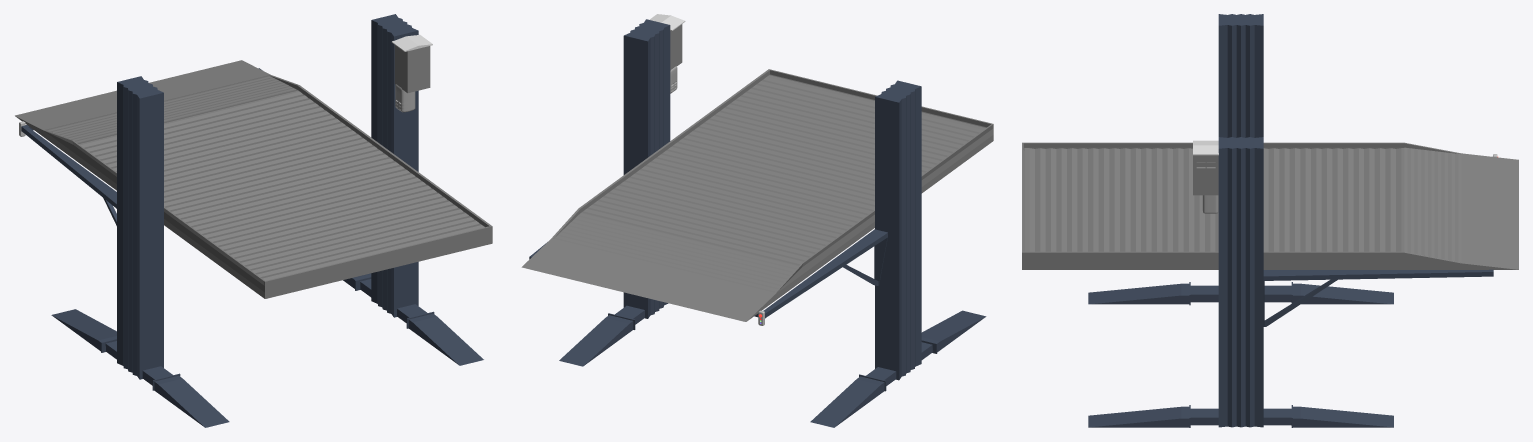
Rendered from park lift.fbx.
3 renders of one model, left to right at view 1: azimuth 30°, elevation 25°; view 2: azimuth 150°, elevation 25°; view 3: azimuth 270°, elevation 25°, orthographic.
Visible parts, largest first — view 1: Cube.001, Cube.003, Cube, Cube.005, Cube.002, Cube.006, Cube.009, Cube.007, Cube.008; view 2: Cube.001, Cube.003, Cube, Cube.002, Cube.005, Cube.009, Cube.006; view 3: Cube.001, Cube.003, Cube, Cube.005, Cube.002, Cube.009, Cube.006.
Boxes of the visible parts, x1,y1,x2,y2 form: Cube.001: (79, 90, 484, 280); Cube.003: (117, 14, 418, 379); Cube: (15, 60, 492, 298); Cube.005: (51, 273, 483, 427); Cube.002: (46, 75, 296, 143); Cube.006: (394, 45, 430, 93); Cube.009: (21, 68, 262, 225); Cube.007: (391, 34, 432, 51); Cube.008: (395, 84, 415, 112); Cube.001: (581, 75, 985, 266); Cube.003: (623, 19, 921, 380); Cube: (521, 69, 993, 321); Cube.002: (552, 213, 798, 294); Cube.005: (559, 305, 986, 427); Cube.009: (529, 229, 887, 318); Cube.006: (670, 24, 682, 70); Cube.001: (1024, 148, 1404, 251); Cube.003: (1218, 14, 1263, 427); Cube: (1022, 142, 1518, 269); Cube.005: (1088, 282, 1393, 427); Cube.002: (1404, 147, 1461, 262); Cube.009: (1263, 269, 1493, 326); Cube.006: (1193, 155, 1218, 195).
Bounding box in the file's own units: 1383 × 1319 × 2131.
